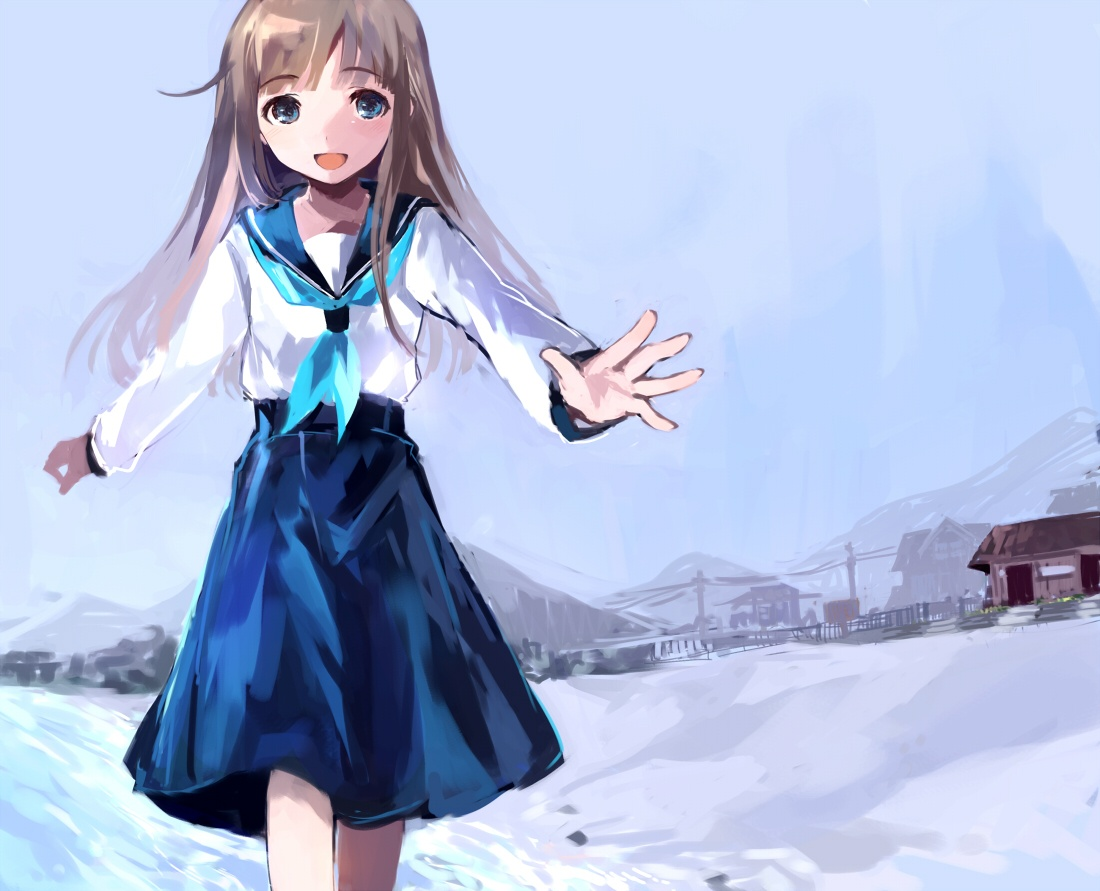纸片人正脸: (177, 0, 436, 189)
